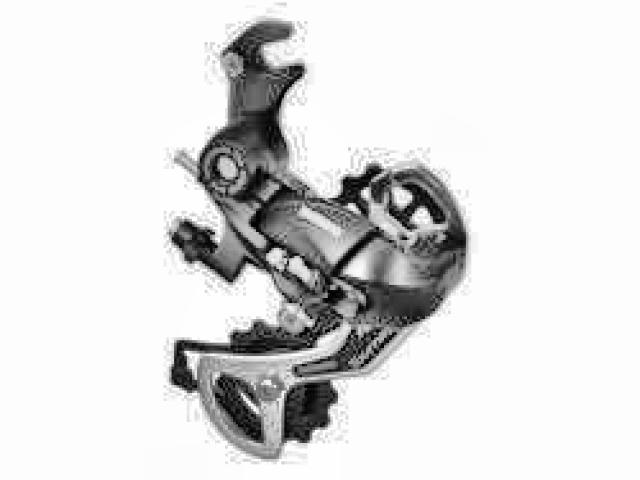rear_derailleur: (160, 15, 473, 457)
